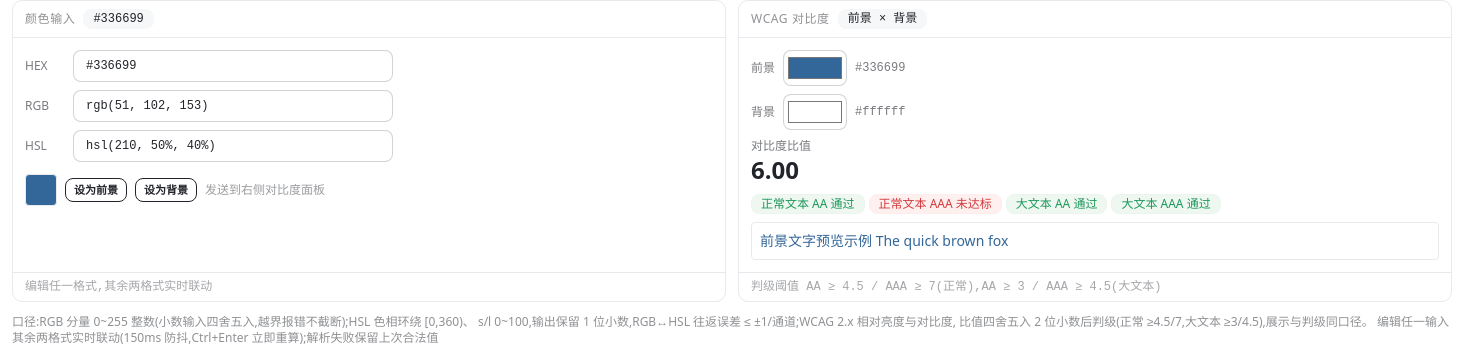
Test: ColorTool 三格式联动与对比度 › 编辑 RGB:HEX/HSL 联动
Type "0, 128, 255" into the field with test id "color-rgb" at [233, 106], box [73,90,393,122]
Wait 150 ms
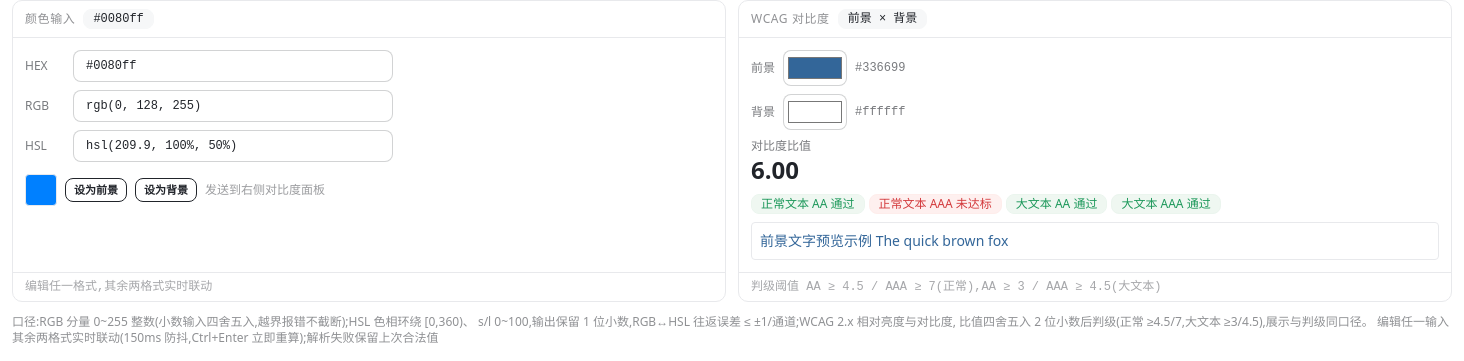
Result: the field with test id "color-hex" holds "#0080ff" at [73,50,393,82]
